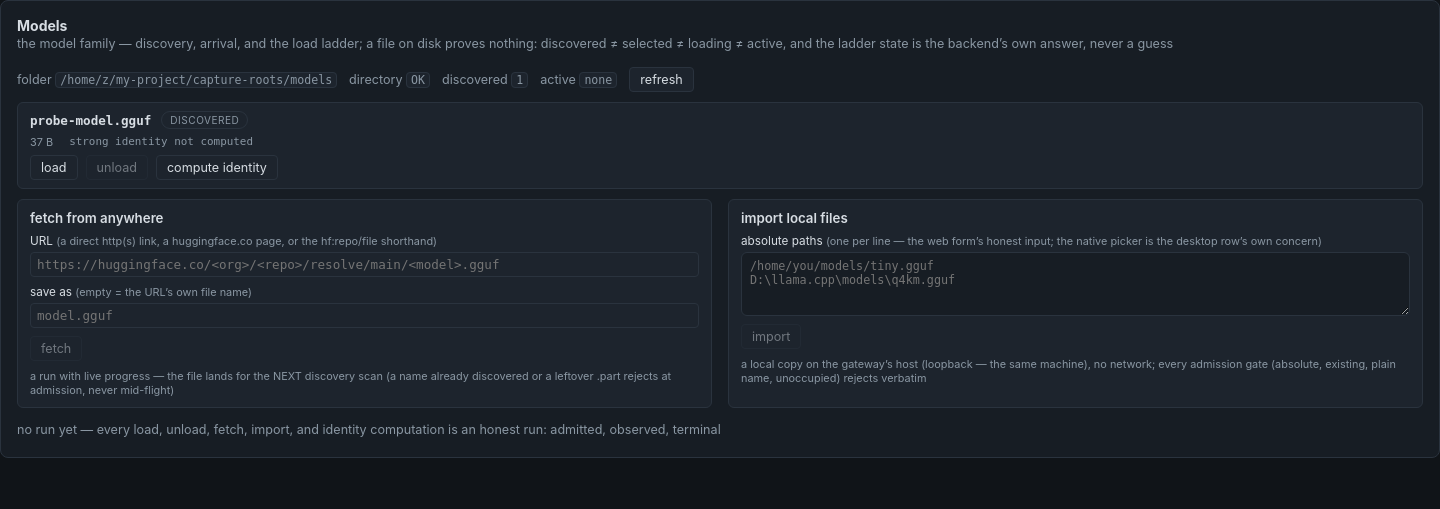
the Models surface (Phase 3, row 6 — the model family's mirror) › a REJECTED load renders the gateway's reason VERBATIM and never auto-retries (G4)
expect the list item with test id "models-row-probe-model.gguf" is shown: met, box [17,102,1423,189]
Click the button "load" at x=54, y=168, box [30,155,78,180]
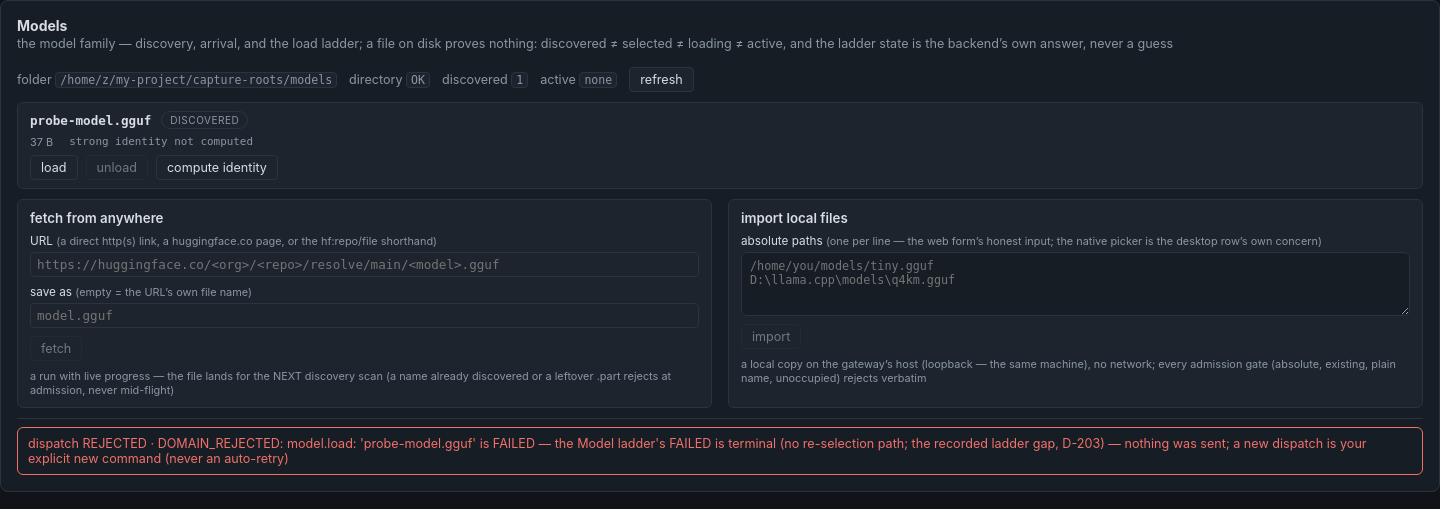
expect the message shows "dispatch REJECTED · DOMAIN_REJECTED": met, box [28,436,1367,466]
expect the message shows "the Model ladder's FAILED is terminal": met, box [28,436,1367,466]
expect the message shows "never an auto-retry": met, box [28,436,1367,466]
